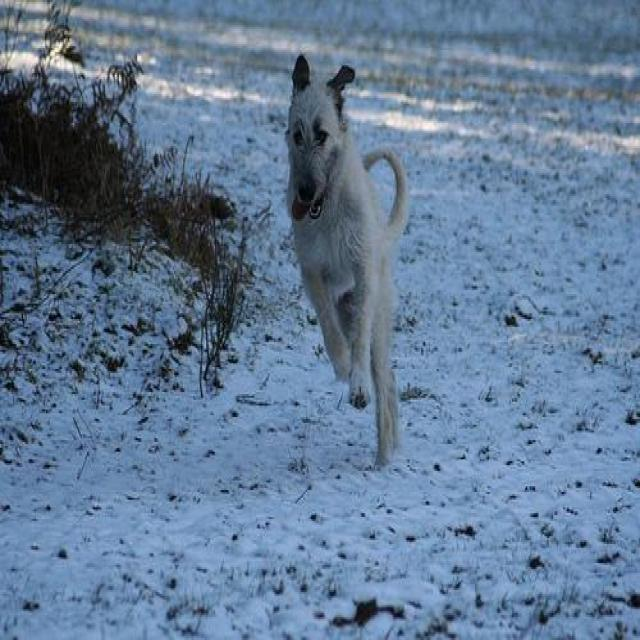irish_wolfhound: (287, 52, 412, 473)
